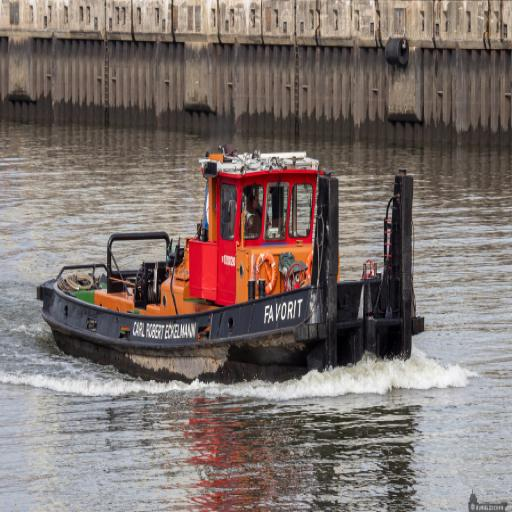tugboat: (31, 143, 430, 395)
